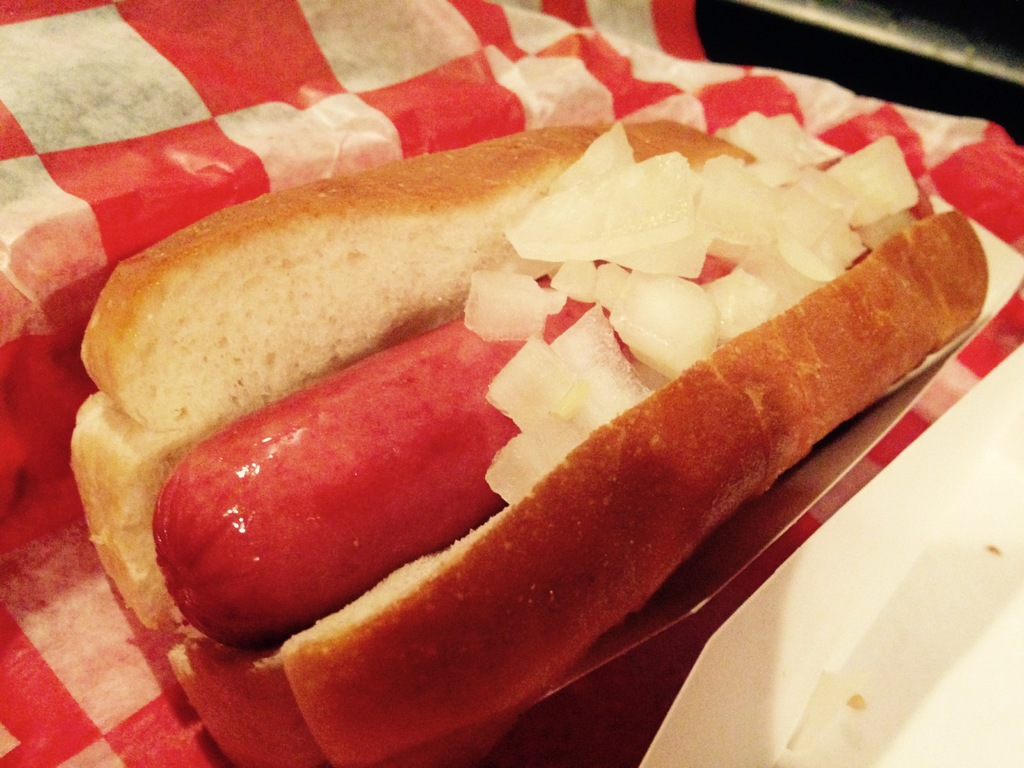hot_dog: (65, 106, 993, 767)
